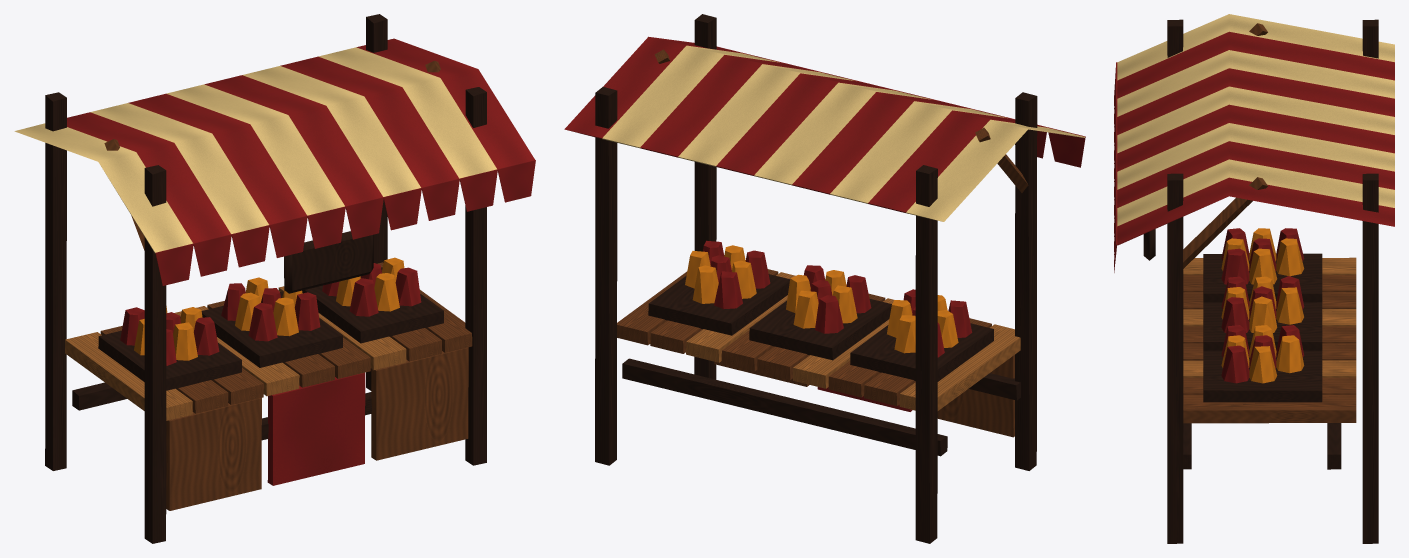
File: Banca_de_frutas_LOD1.fbx
3 renders of one model, left to right at view 1: azimuth 30°, elevation 25°; view 2: azimuth 150°, elevation 25°; view 3: azimuth 270°, elevation 25°, orthographic.
Visible parts, largest first — view 1: Banca_de_frutas_LOD1; view 2: Banca_de_frutas_LOD1; view 3: Banca_de_frutas_LOD1.
Boxes of the visible parts, x1=… form: Banca_de_frutas_LOD1: x1=14, y1=14, x2=535, y2=543; Banca_de_frutas_LOD1: x1=564, y1=14, x2=1085, y2=543; Banca_de_frutas_LOD1: x1=1114, y1=14, x2=1394, y2=543.
Size of the model in its own units: 320 by 298 by 208.
Materials: 1 (1 with a texture image).
